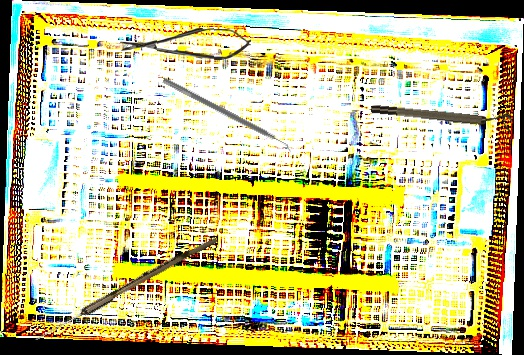Fixation Ring: (370, 96, 513, 133)
Micro Scissor: (119, 26, 252, 61)
Spatula Surgical: (159, 77, 296, 155)
Surgical Spoon: (33, 232, 218, 346)
